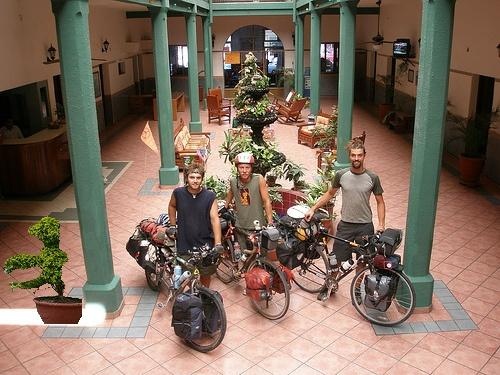tampered: (4, 217, 82, 324)
